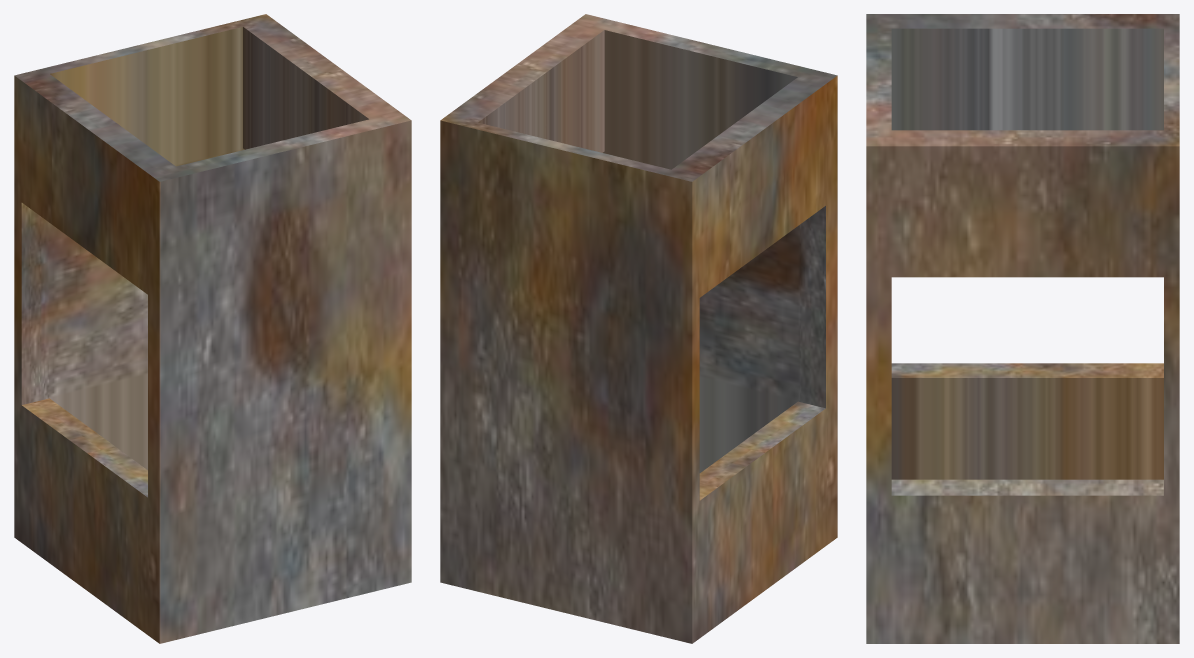
The model's file is Shaft.dae.
3 views of the same model, side by side, from view 1: azimuth 30°, elevation 25°; view 2: azimuth 150°, elevation 25°; view 3: azimuth 270°, elevation 25° (orthographic). The views are drawn at different scales.
Parts seen in each view (by area): view 1: Cube.003; view 2: Cube.003; view 3: Cube.003.
Boxes of the visible parts, bbox=[...] form: Cube.003: bbox=[14, 14, 411, 643]; Cube.003: bbox=[440, 14, 837, 643]; Cube.003: bbox=[866, 14, 1179, 643].
Size of the model in its own units: 87.21 by 87.21 by 153.
Materials: 1 (1 with a texture image).
